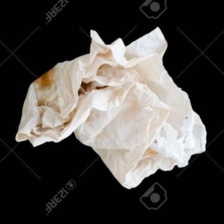tissue: (10, 23, 212, 193)
